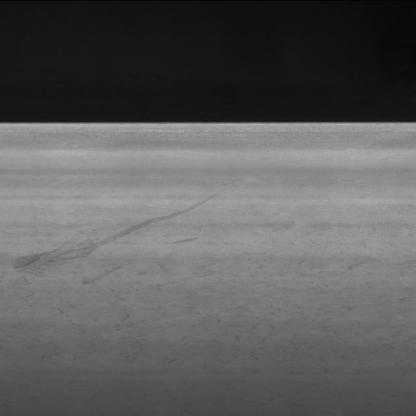silk_spot: (154, 227, 403, 366)
water_spot: (0, 190, 221, 290)
